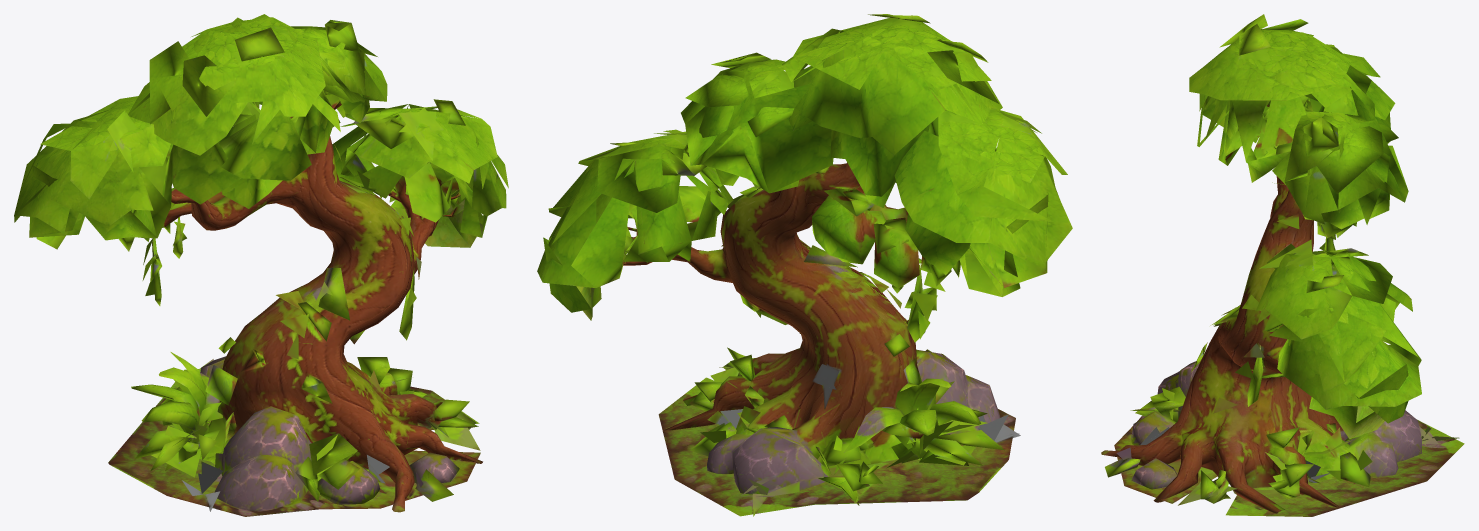
Rendered from Meshy_AI_Emerald_Spiral_Tree_1005034119_texture.glb.
The picture shows the model from 3 angles, left to right: view 1: azimuth 30°, elevation 25°; view 2: azimuth 150°, elevation 25°; view 3: azimuth 270°, elevation 25°; orthographic projection. The views are drawn at different scales.
Bounding box in the file's own units: 0.9619 × 0.8066 × 0.6704.
1 material, 1 textured.
